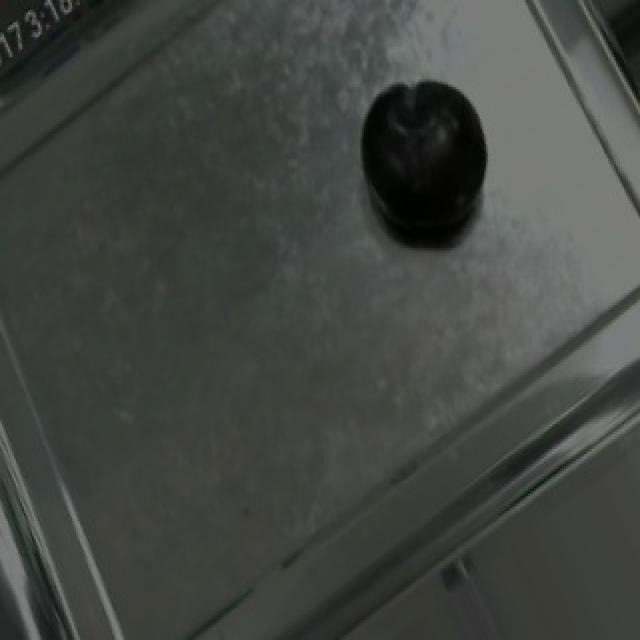Fruit: (338, 57, 514, 253)
